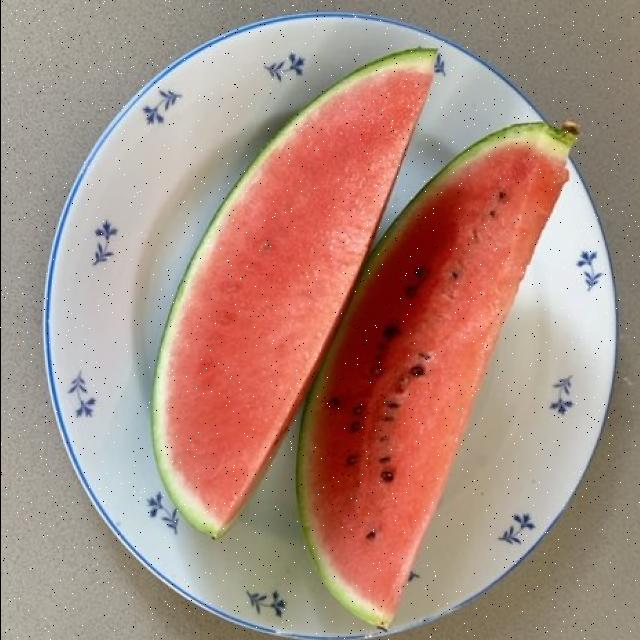watermelon-fresh: (157, 58, 568, 615)
